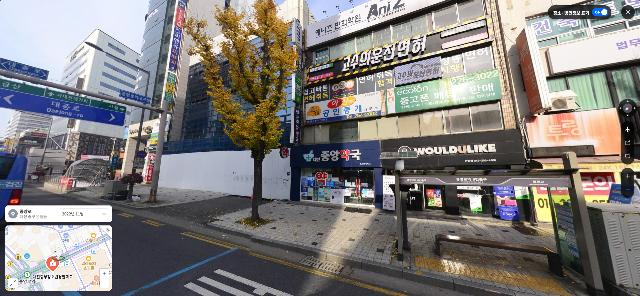ginkgo: (174, 0, 301, 221)
